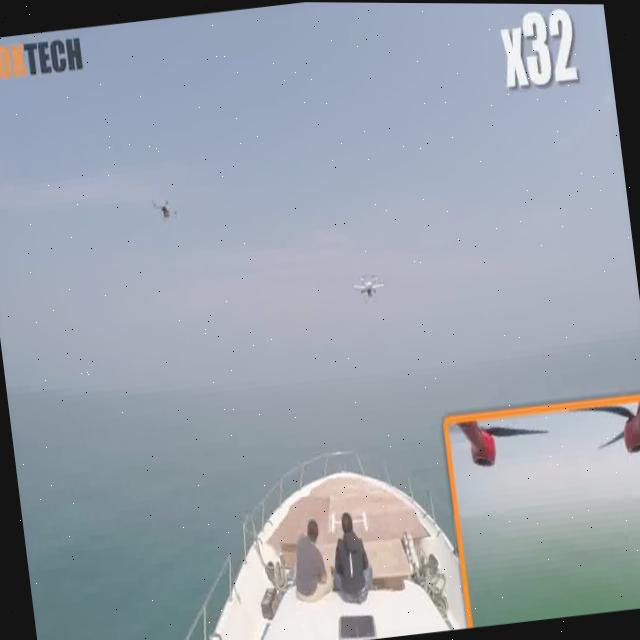drone: (341, 257, 394, 311), (144, 189, 182, 227)
